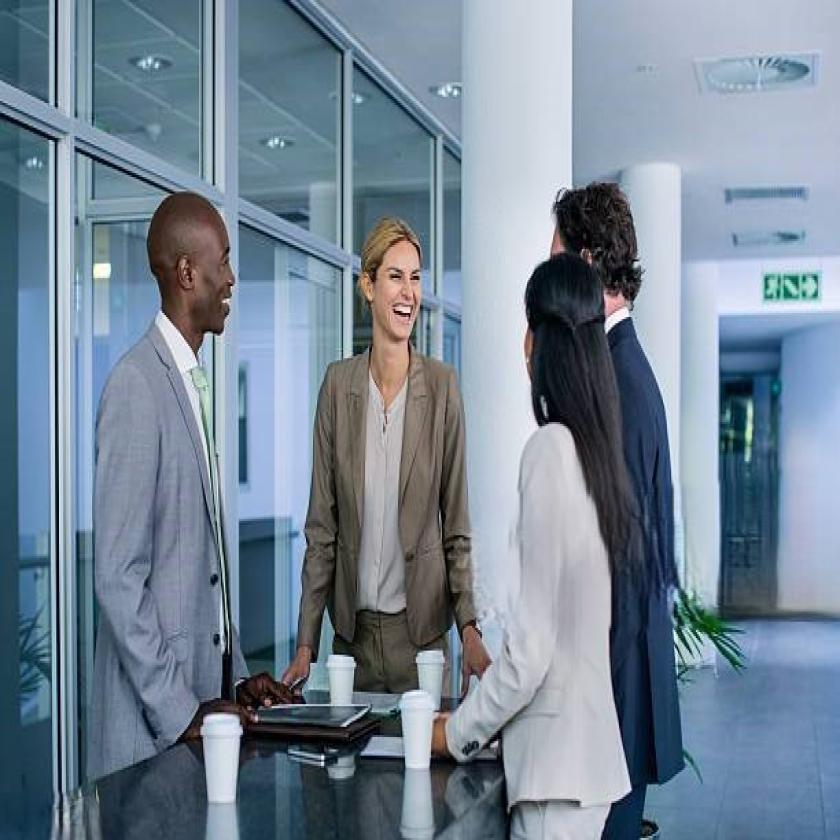Sin_casco: (144, 189, 235, 352), (514, 249, 606, 407), (552, 182, 641, 322), (358, 216, 430, 354)
